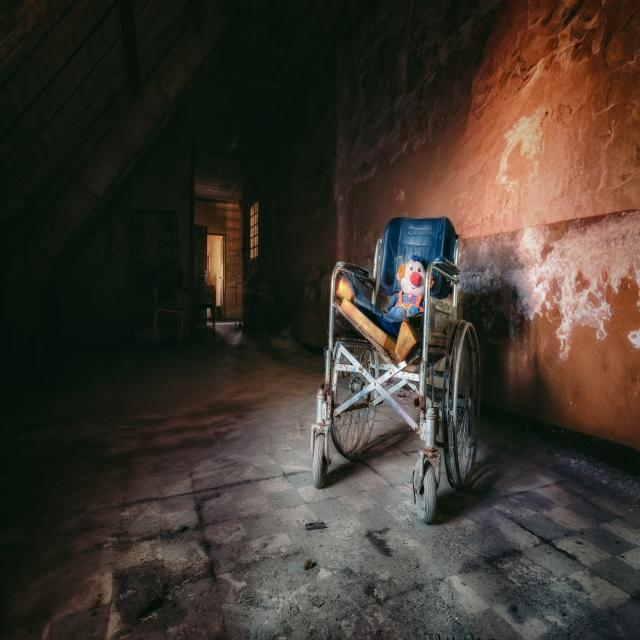wheelchairs: (312, 216, 478, 522)
